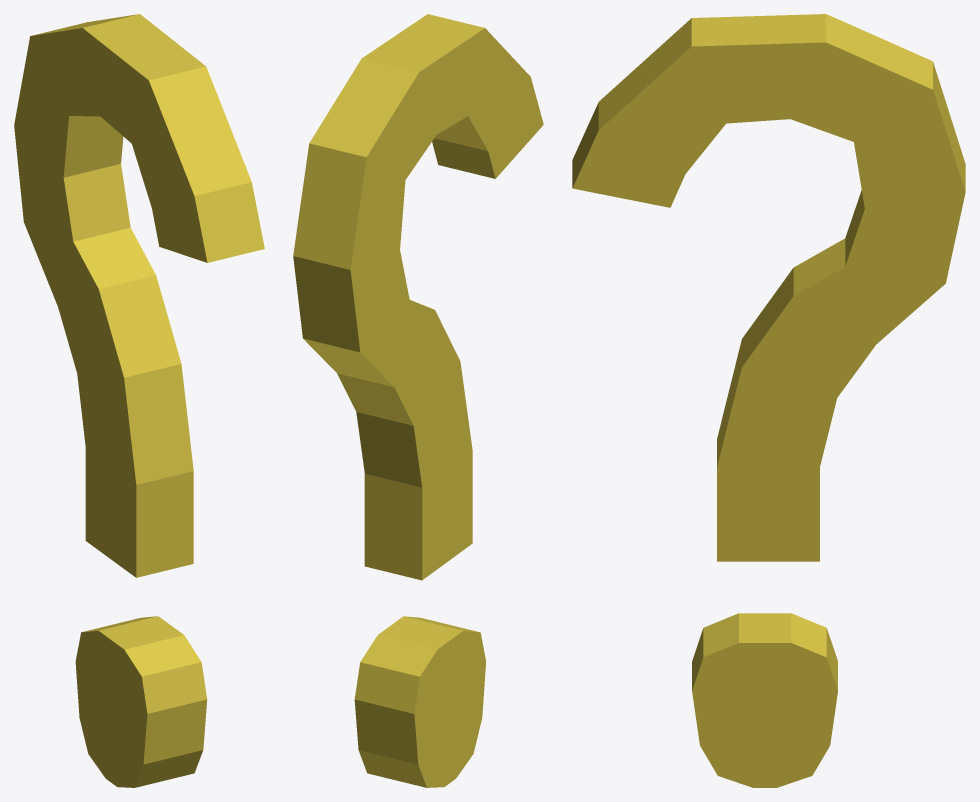
Rendered from QuestMarkerEnd.fbx.
The picture shows the model from 3 angles, left to right: view 1: azimuth 30°, elevation 25°; view 2: azimuth 150°, elevation 25°; view 3: azimuth 270°, elevation 25°; orthographic projection.
Parts seen in each view (by area): view 1: QuestMarkerEnd; view 2: QuestMarkerEnd; view 3: QuestMarkerEnd.
Part boxes in pixels (left/top/right/bottom): QuestMarkerEnd: left=14, top=14, right=264, bottom=787; QuestMarkerEnd: left=293, top=14, right=543, bottom=787; QuestMarkerEnd: left=572, top=14, right=965, bottom=787.
Size of the model in its own units: 0.3918 by 4.59 by 2.19.
